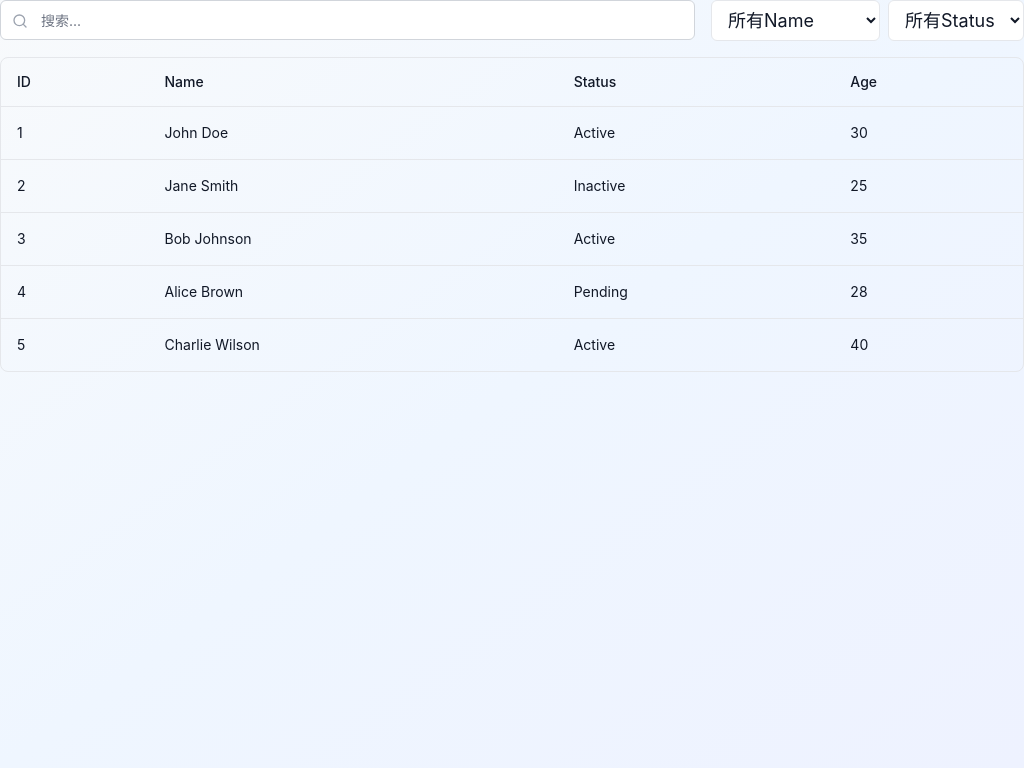
Test: DataTable Component › Search Functionality › should clear search when input is cleared
Type "John" into the field with placeholder "搜索...". click: [348, 20]
box: [0,0,695,40]
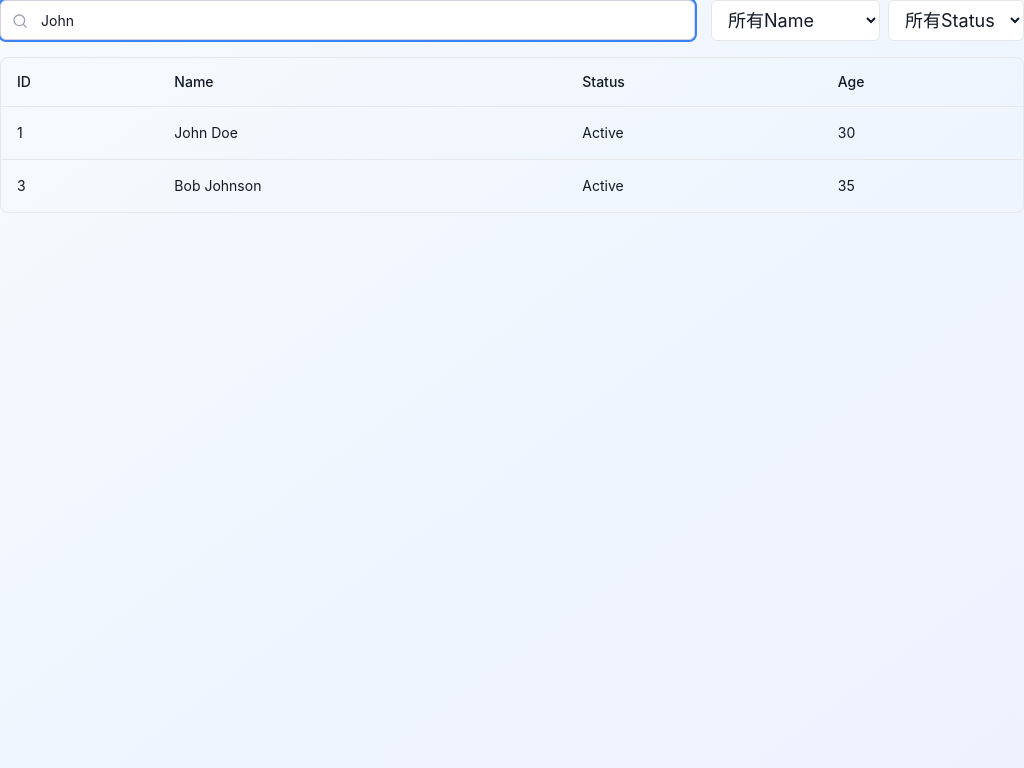
Expected: the text "John Doe" is shown, [158,106,566,159]
Clear the field with placeholder "搜索...". click: [348, 20]
box: [0,0,695,40]
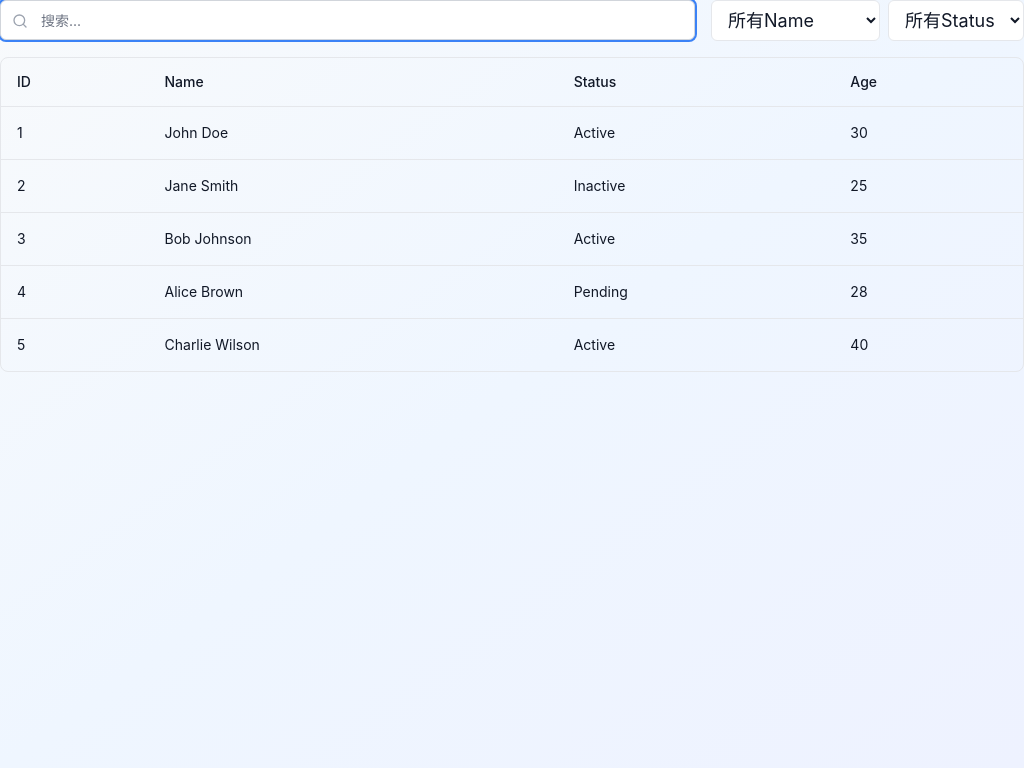
Expected: the text "Jane Smith" is shown, [148,159,558,212]
